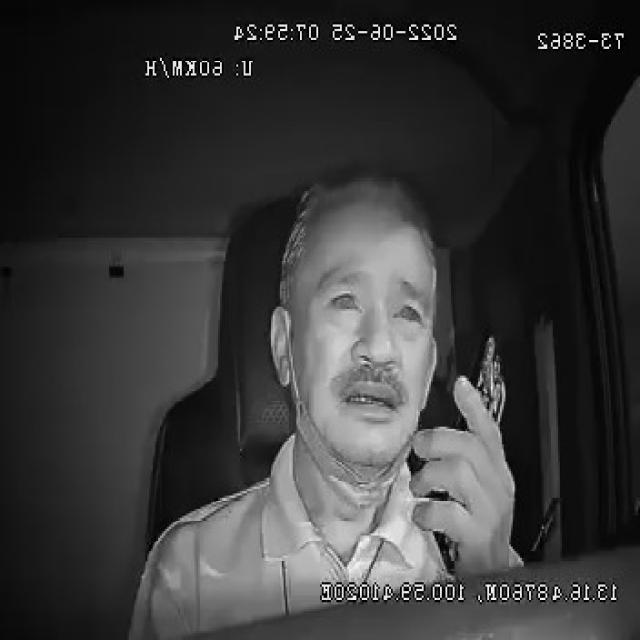phone: (432, 328, 509, 574)
